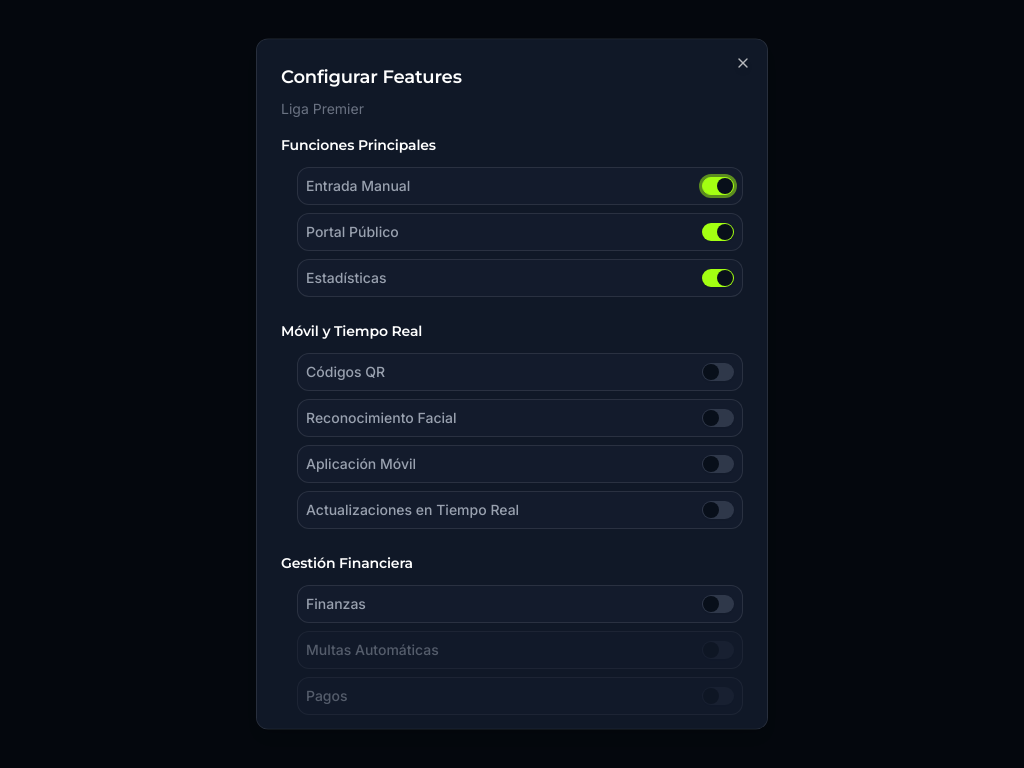
LeagueFeaturesEditor › sends the FULL features object (every flag) with the league product mode and confirms
This screenshot has width=1024, height=768.
Click the switch named "Códigos QR" in the row of "Códigos QR".
click(718, 372)  # box [702, 363, 734, 382]
(page scrolled)
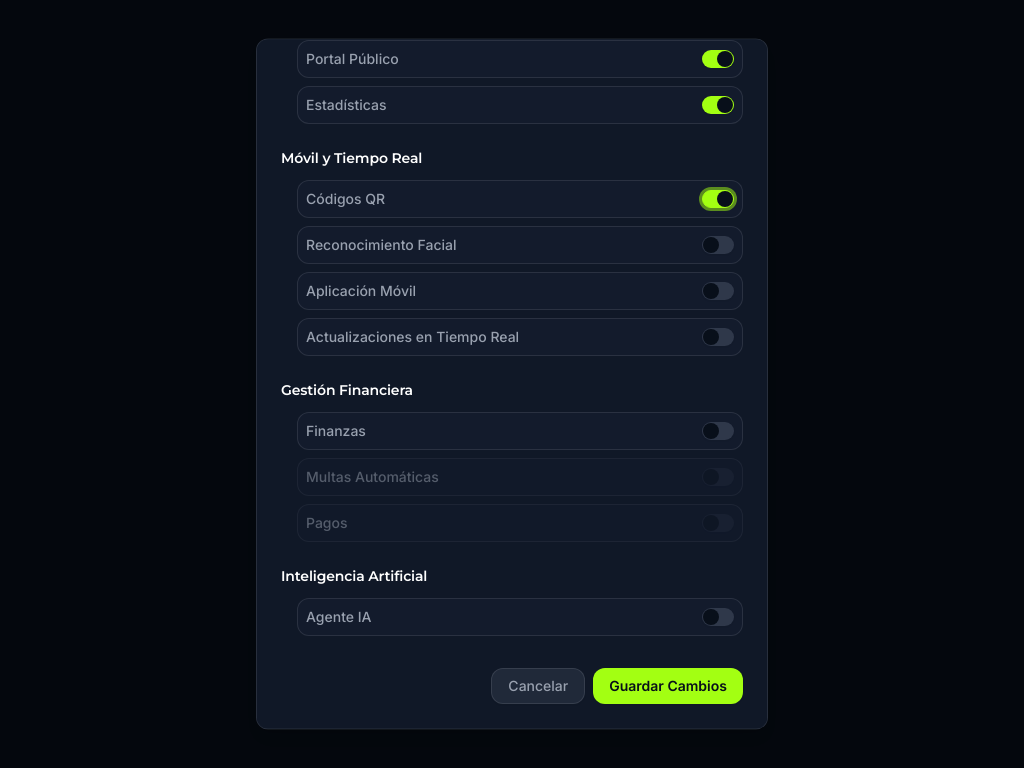
Click the button "Guardar Cambios".
click(668, 686)  # box [593, 668, 743, 704]
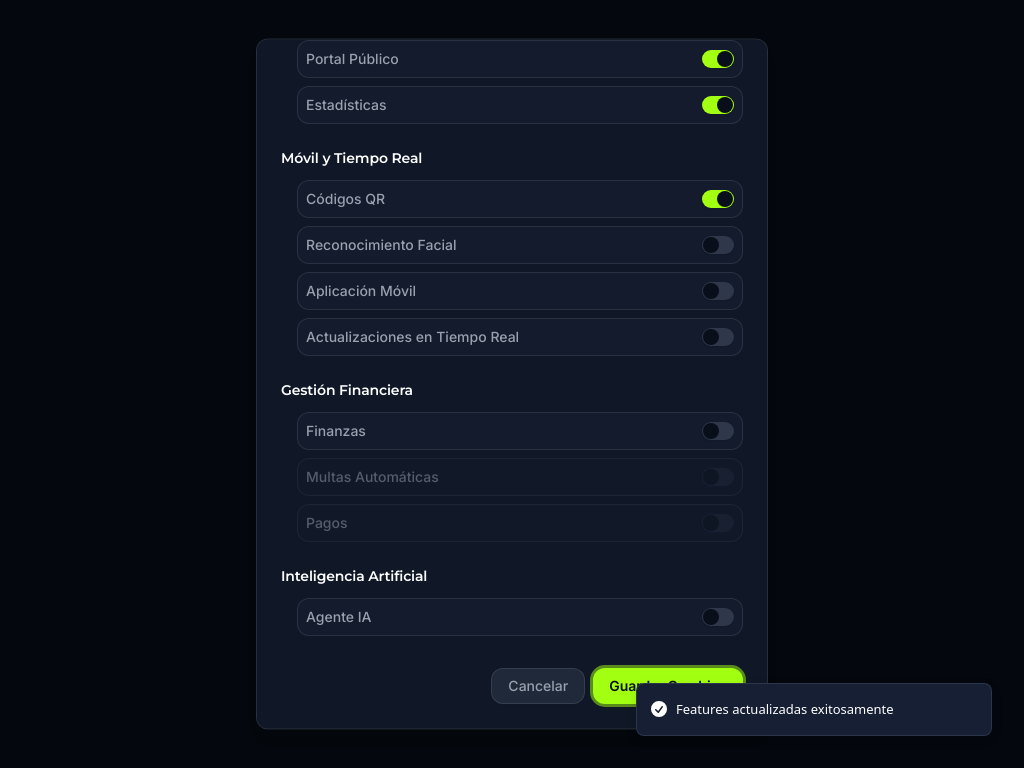
Expected: the text "Features actualizadas exitosamente" is shown, [676, 700, 894, 719]
